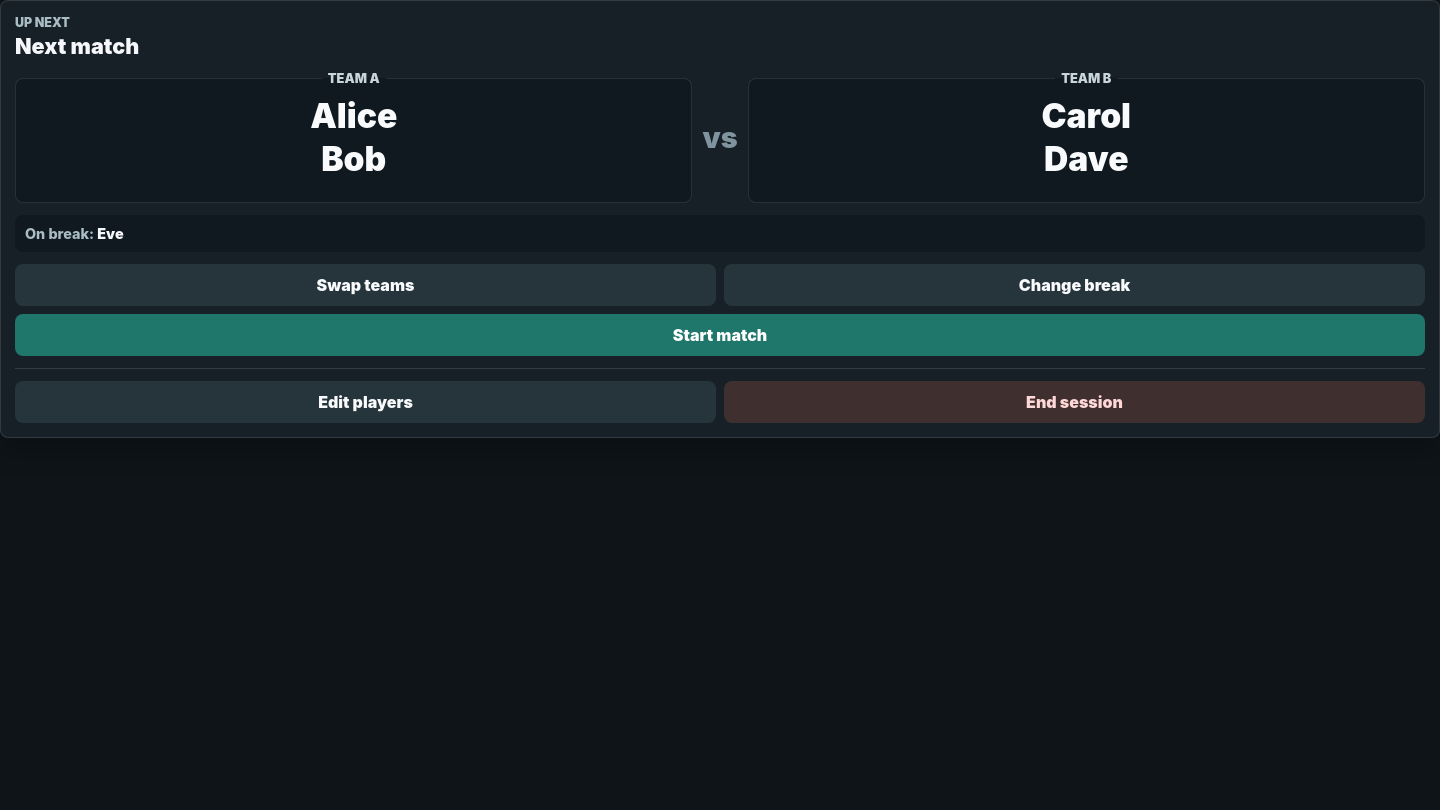
Scenario: MatchSuggestion › shows break-swap selects when Change break is clicked
This screenshot has width=1440, height=810.
Step 1. Click the button "Change break" → (1074, 285), box [724,264,1425,306]
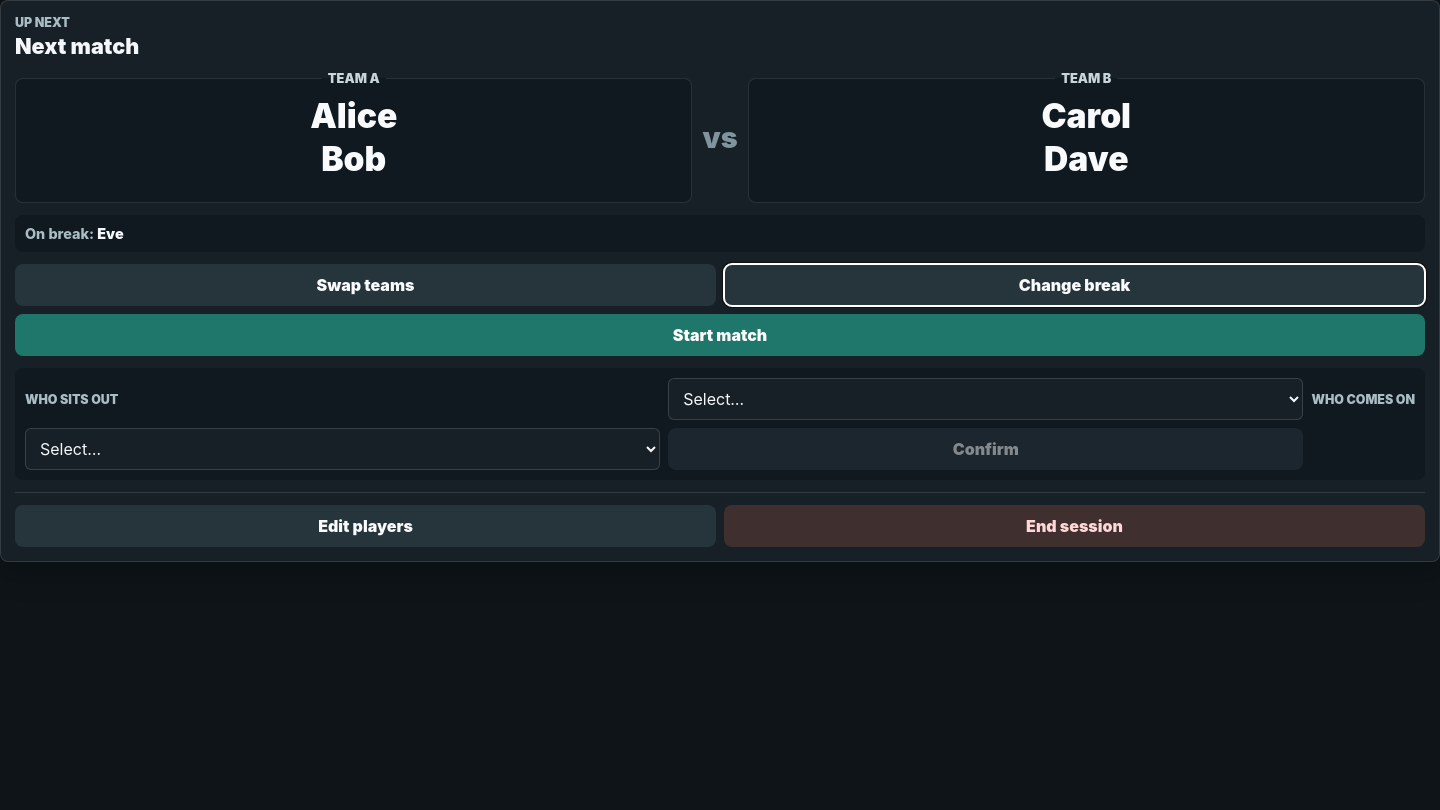
Expected: the dropdown labelled "Who sits out" is shown, [668,378,1303,420]
Expected: the dropdown labelled "Who comes on" is shown, [25,428,660,470]
